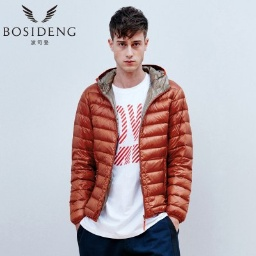face: (108, 6, 150, 73)
